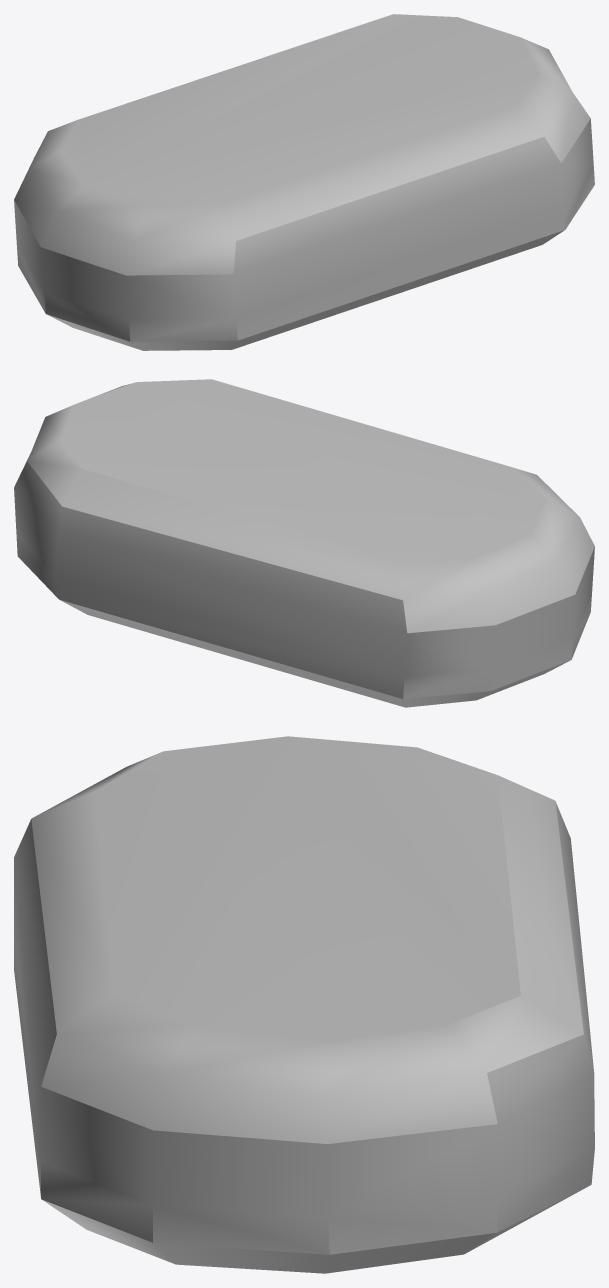
The model's file is space0_button.glb.
3 views of the same model, one above another, from view 1: azimuth 30°, elevation 25°; view 2: azimuth 150°, elevation 25°; view 3: azimuth 270°, elevation 25° (orthographic). The views are drawn at different scales.
Visible parts, largest first — view 1: space0_button; view 2: space0_button; view 3: space0_button.
Boxes of the visible parts, x1,y1,x2,y2 form: space0_button: (14, 14, 594, 350); space0_button: (14, 379, 594, 707); space0_button: (14, 736, 594, 1273).
Size of the model in its own units: 0.00276 by 0.000842 by 0.00162.
Materials: 1 (1 with a texture image).
